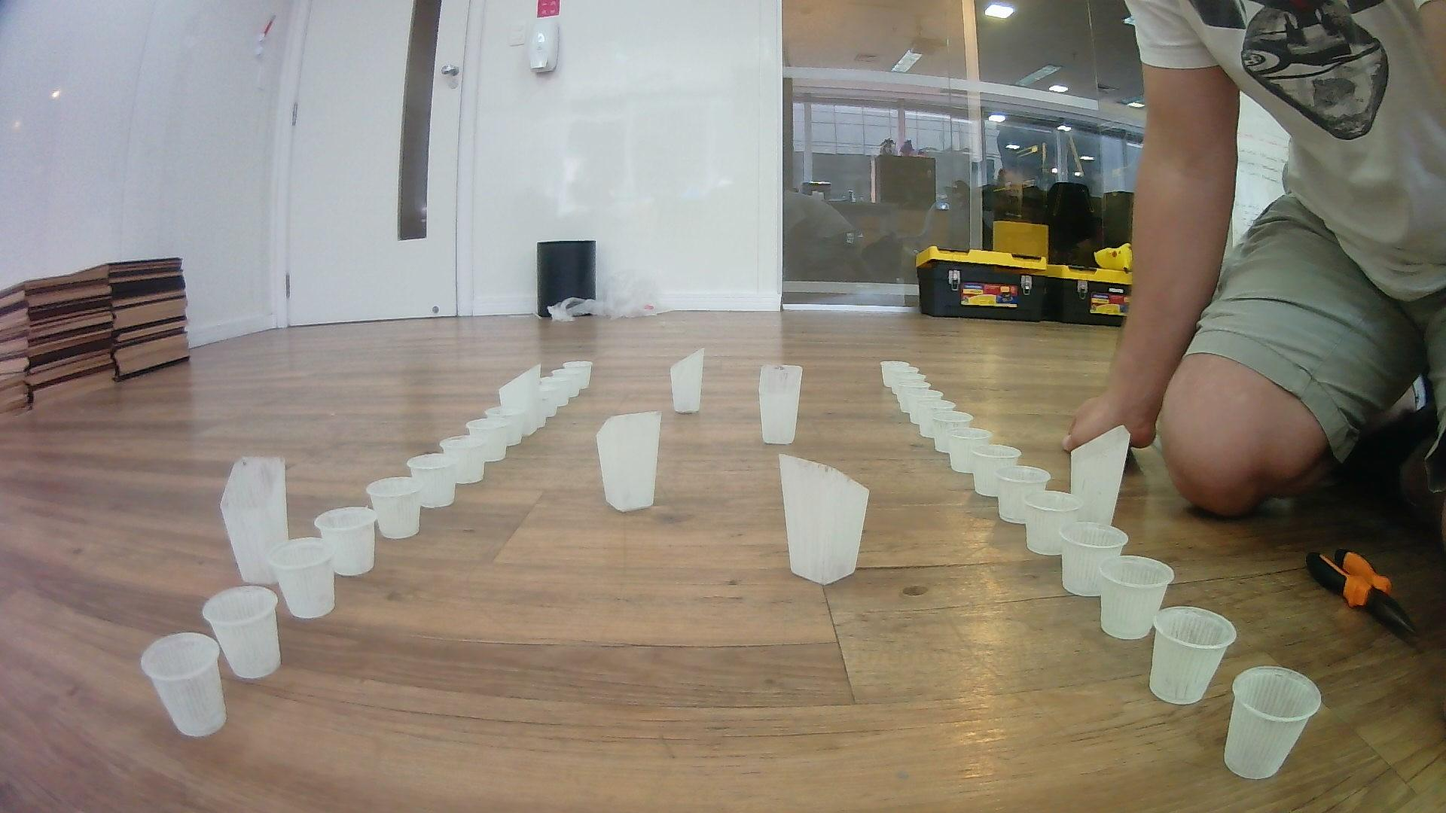erva_daninha: (777, 453, 871, 586), (219, 454, 289, 586), (596, 411, 663, 513), (1069, 425, 1130, 529), (758, 364, 804, 445), (498, 364, 545, 437), (670, 347, 705, 415)
planta: (1223, 665, 1322, 781), (139, 631, 228, 738), (1149, 606, 1237, 706), (200, 586, 282, 680), (1098, 555, 1175, 641), (264, 537, 337, 620), (1057, 521, 1130, 597), (313, 507, 379, 577), (1022, 489, 1084, 556), (365, 477, 426, 540), (996, 465, 1053, 524), (407, 454, 459, 509), (972, 443, 1023, 498), (439, 434, 490, 485), (948, 427, 996, 474), (466, 417, 510, 463), (932, 410, 975, 454), (487, 406, 526, 446), (917, 399, 956, 438), (908, 388, 944, 425), (898, 380, 932, 414), (890, 373, 926, 402), (884, 366, 918, 394), (562, 360, 593, 389), (552, 367, 581, 397), (537, 379, 558, 418), (880, 361, 909, 387), (545, 375, 569, 406)
